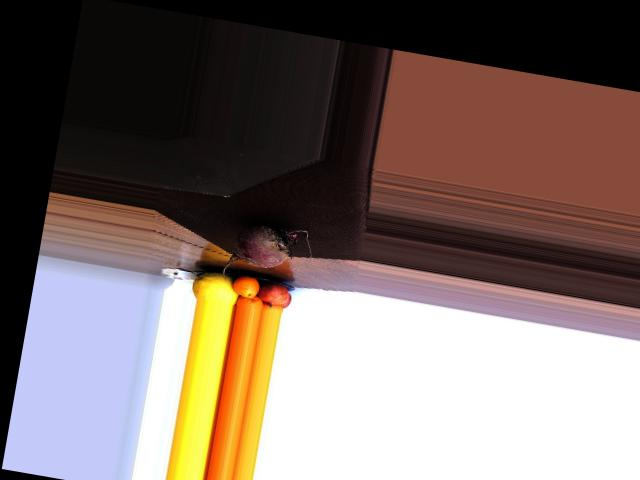beet: (220, 217, 315, 294)
